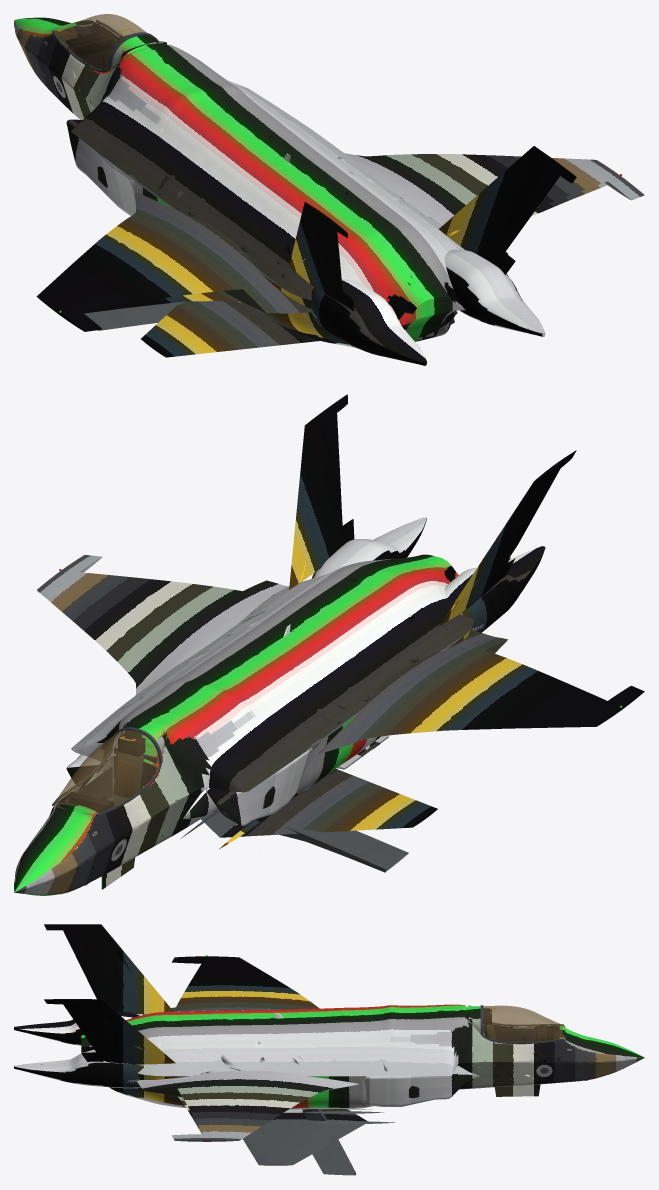
Rendered from jet_wraith.glb.
The picture shows the model from 3 angles, top to bottom: view 1: azimuth 30°, elevation 25°; view 2: azimuth 150°, elevation 25°; view 3: azimuth 270°, elevation 25°; orthographic projection. The views are drawn at different scales.
Visible parts, largest first — view 1: body, stab_L, glass, flaperon_L; view 2: body, stab_L, glass, flaperon_L; view 3: body, stab_R, glass, flaperon_R, stab_L.
Boxes of the visible parts, x1=… form: body: x1=14, y1=17, x2=644, y2=365; stab_L: x1=141, y1=301, x2=319, y2=357; glass: x1=54, y1=14, x2=155, y2=69; flaperon_L: x1=84, y1=301, x2=185, y2=330; body: x1=14, y1=394, x2=644, y2=895; stab_L: x1=219, y1=769, x2=437, y2=848; glass: x1=52, y1=730, x2=159, y2=816; flaperon_L: x1=279, y1=826, x2=408, y2=872; body: x1=14, y1=924, x2=644, y2=1141; stab_R: x1=243, y1=1111, x2=394, y2=1165; glass: x1=483, y1=1005, x2=565, y2=1042; flaperon_R: x1=312, y1=1133, x2=355, y2=1175; stab_L: x1=273, y1=1109, x2=372, y2=1121.
Size of the model in its own units: 10.79 by 4.7 by 15.62.
4 materials, 4 textured.
